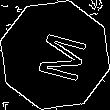M_W: (25, 26, 85, 84)
